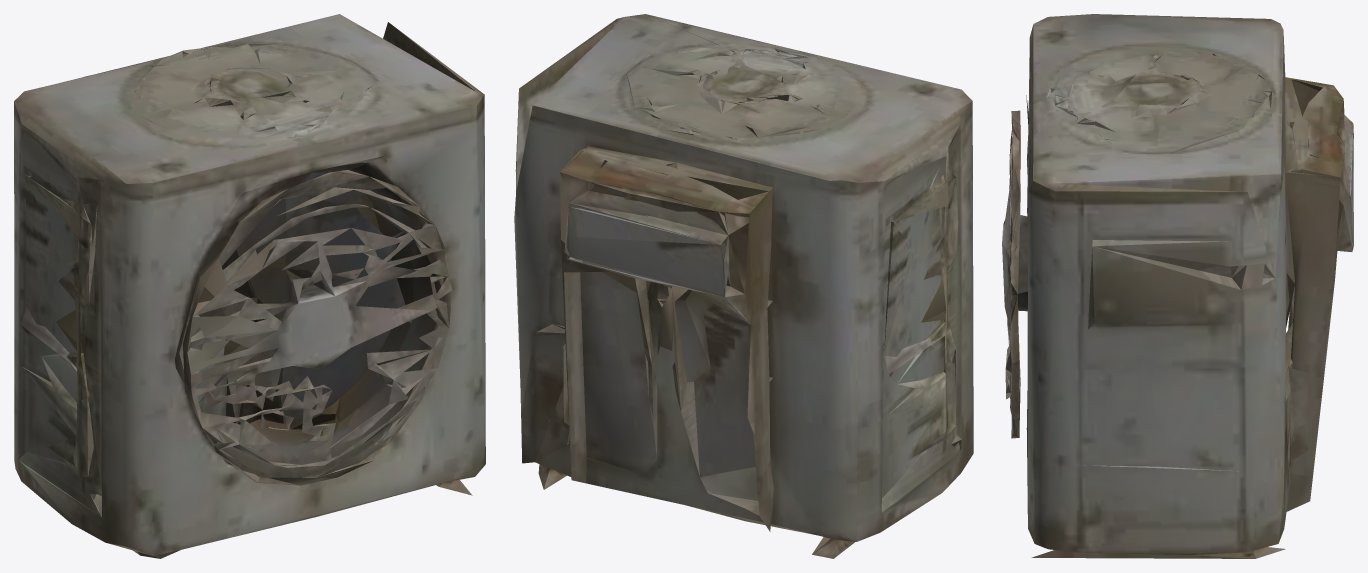
3 views of the same model, side by side, from view 1: azimuth 30°, elevation 25°; view 2: azimuth 150°, elevation 25°; view 3: azimuth 270°, elevation 25° (orthographic). The views are drawn at different scales.
Parts seen in each view (by area): view 1: ac; view 2: ac; view 3: ac.
Boxes of the visible parts, left/top/right/bottom form: ac: left=14, top=14, right=485, bottom=558; ac: left=514, top=14, right=973, bottom=558; ac: left=1002, top=14, right=1353, bottom=558.
Bounding box in the file's own units: 0.893 × 0.9 × 0.7237.
Materials: 1 (1 with a texture image).
